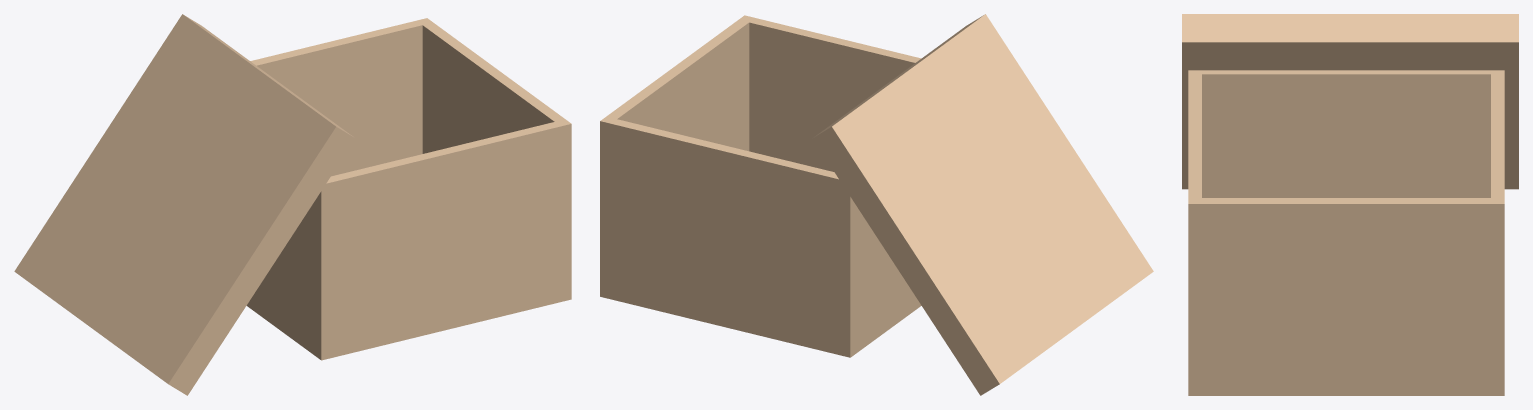
The picture shows the model from 3 angles, left to right: view 1: azimuth 30°, elevation 25°; view 2: azimuth 150°, elevation 25°; view 3: azimuth 270°, elevation 25°; orthographic projection. The views are drawn at different scales.
Visible parts, largest first — view 1: container, lid; view 2: container, lid; view 3: container, lid.
Boxes of the visible parts, x1,y1,x2,y2 form: container: (246, 18, 571, 360); lid: (14, 14, 355, 395); container: (600, 15, 921, 357); lid: (812, 14, 1153, 395); container: (1188, 70, 1504, 395); lid: (1182, 14, 1518, 189).
Bounding box in the file's own units: 17.32 × 9.49 × 11.36.
